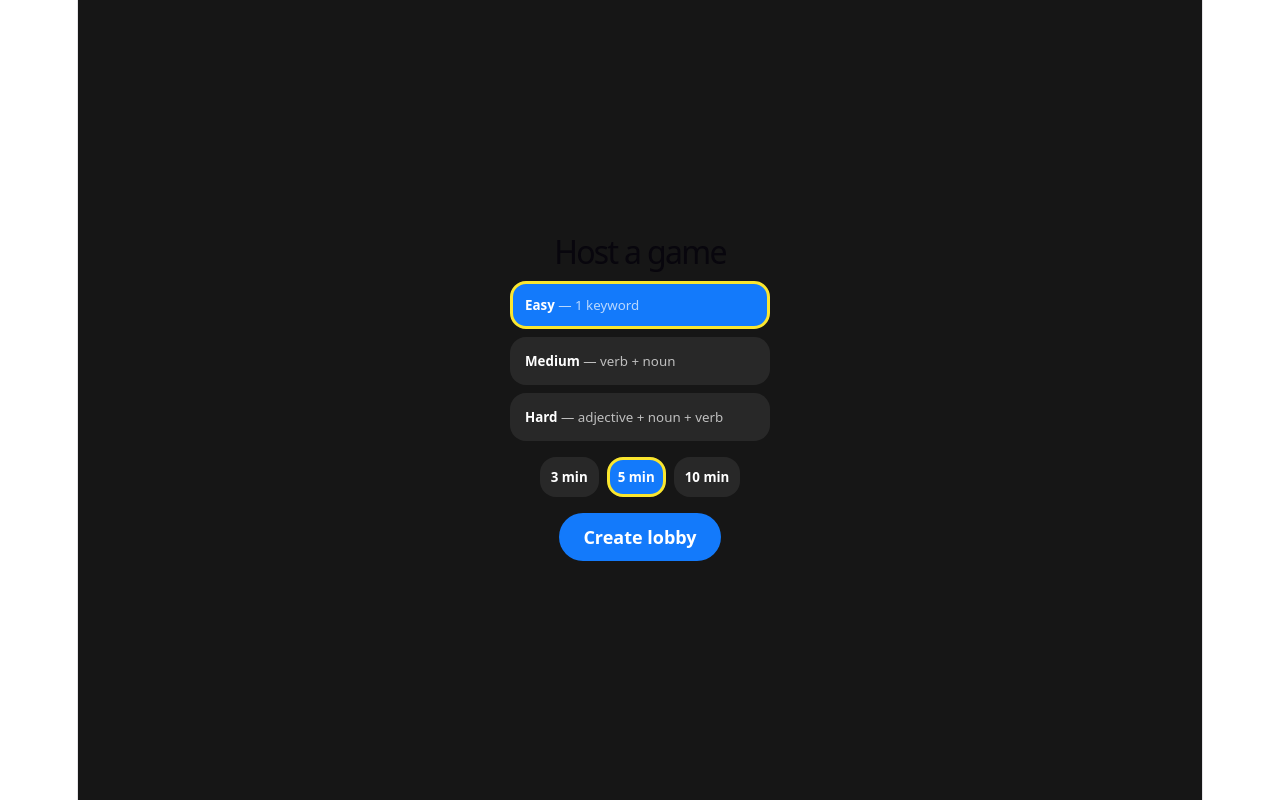
Test: CreateLobby › shows a friendly error when create fails
What coordinates should you click on to do the following:
click the button "Create lobby"
I would click on:
 (640, 537)
Its box is [559,513,721,561].
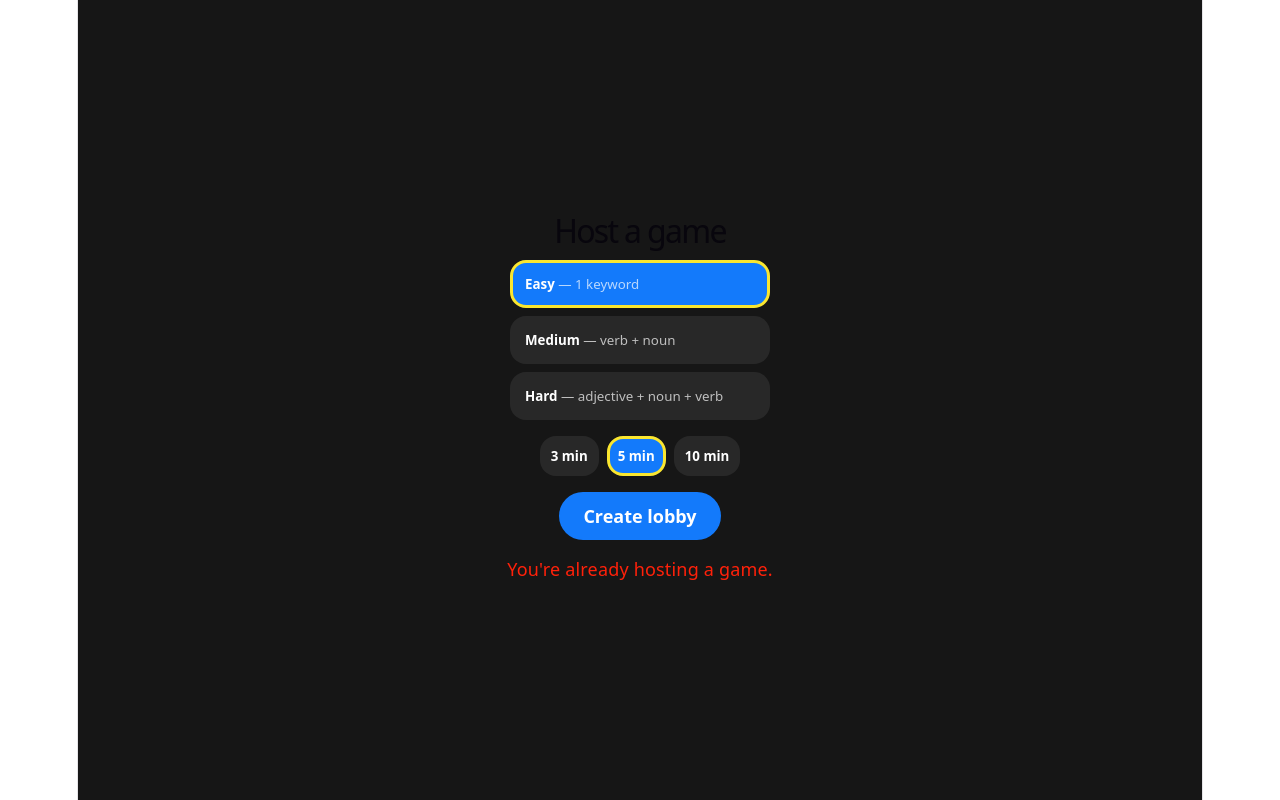
Result: the text "You're already hosting a game." is shown at [507,556,773,582]
